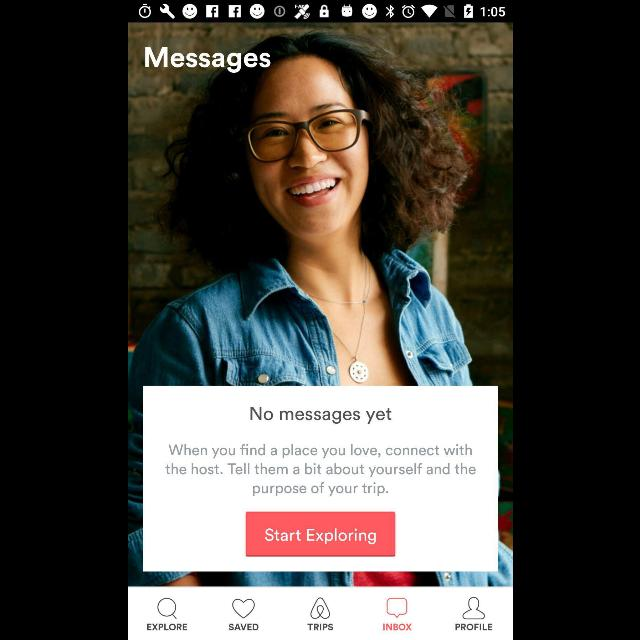icon: (462, 596, 484, 620), (232, 598, 254, 618), (386, 598, 406, 618), (157, 598, 176, 618)
image: (128, 24, 512, 586), (309, 597, 329, 619)
text: (164, 444, 476, 496), (144, 46, 270, 74), (249, 406, 391, 424), (146, 624, 186, 630), (454, 624, 492, 630), (382, 624, 412, 630), (228, 624, 258, 630), (306, 624, 332, 630)
textbutton: (245, 512, 395, 556)
uppertaskbar: (128, 1, 512, 23)
